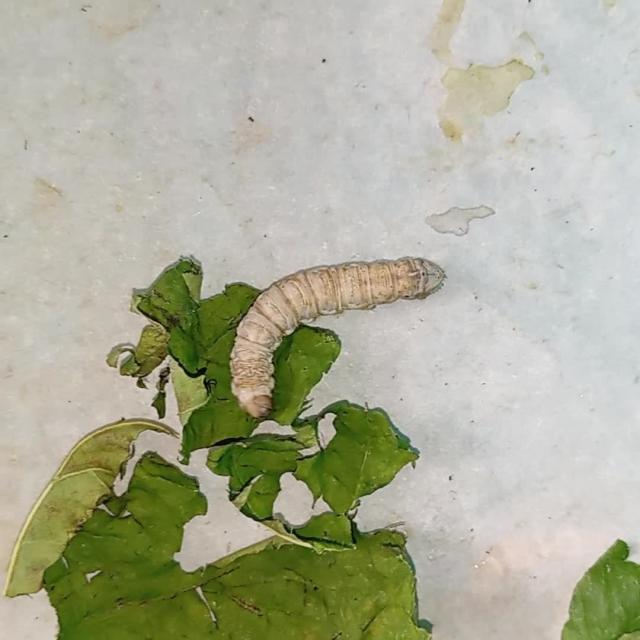Grasserie: (220, 241, 454, 423)
